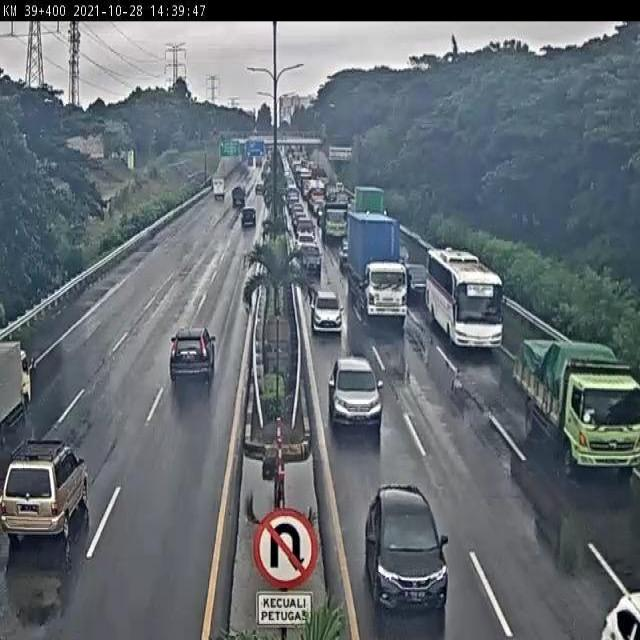big bus: (417, 236, 501, 353)
big truck: (343, 205, 410, 323), (353, 177, 390, 220)
car: (362, 478, 452, 618), (0, 432, 94, 547), (326, 352, 386, 432), (164, 316, 220, 388), (598, 589, 640, 640), (307, 283, 345, 336), (396, 253, 427, 299), (296, 238, 322, 274), (225, 187, 247, 216), (239, 204, 259, 231), (292, 224, 314, 248), (293, 210, 315, 230)
mid truck: (511, 333, 640, 478), (317, 201, 351, 244)
small truck: (0, 341, 35, 428), (210, 173, 228, 203)
